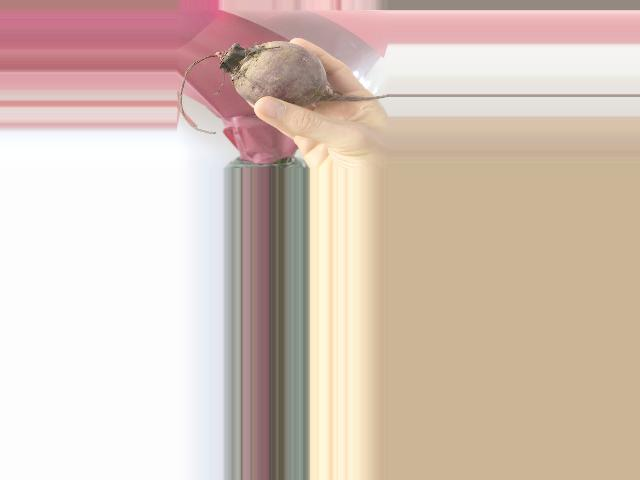beet: (178, 41, 387, 134)
